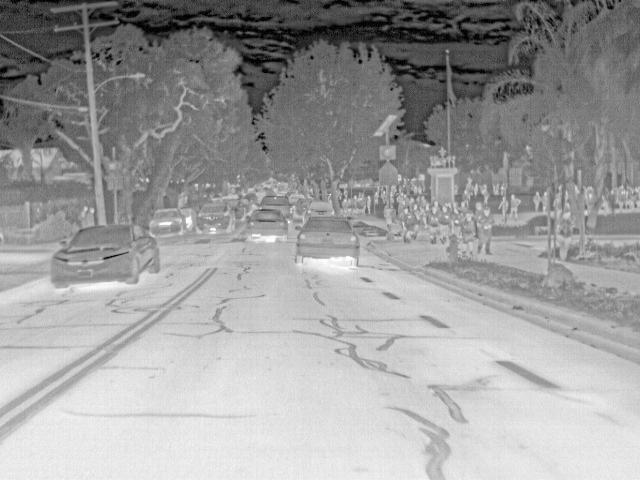car: (50, 222, 160, 290), (296, 216, 360, 268), (242, 208, 288, 242), (195, 200, 236, 234), (149, 207, 185, 236), (260, 193, 292, 222), (302, 200, 335, 224), (223, 197, 251, 219), (180, 206, 196, 232), (296, 197, 314, 213), (288, 192, 304, 204), (243, 192, 258, 204), (284, 189, 298, 198), (275, 188, 285, 198)
person: (556, 208, 574, 260), (475, 206, 493, 257), (398, 206, 418, 243), (459, 211, 475, 255), (425, 207, 439, 247), (438, 205, 451, 243), (507, 192, 522, 222), (496, 195, 509, 222), (451, 200, 460, 232), (84, 205, 95, 228), (584, 184, 593, 210), (532, 189, 542, 212), (460, 188, 471, 208), (563, 190, 571, 216), (417, 206, 425, 232), (78, 205, 87, 228), (540, 190, 549, 211), (481, 182, 489, 203), (352, 193, 359, 215), (341, 195, 348, 214), (365, 193, 371, 215), (395, 190, 405, 202), (372, 190, 379, 206), (380, 188, 386, 206), (420, 194, 428, 207), (473, 200, 482, 210), (574, 184, 581, 196), (409, 195, 416, 206), (432, 199, 440, 208), (403, 192, 409, 204), (415, 194, 422, 204)
